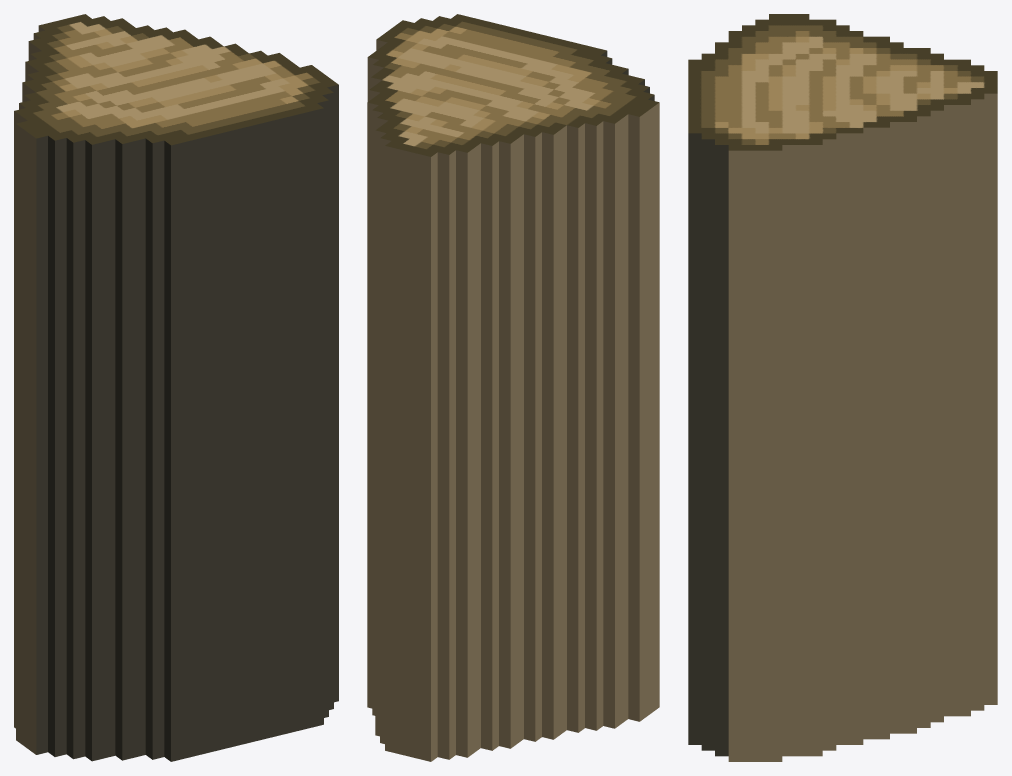
Rendered from wood_chopped.glb.
The picture shows the model from 3 angles, left to right: view 1: azimuth 30°, elevation 25°; view 2: azimuth 150°, elevation 25°; view 3: azimuth 270°, elevation 25°; orthographic projection.
Visible parts, largest first — view 1: wood1-2-col; view 2: wood1-2-col; view 3: wood1-2-col.
Part boxes in pixels (left/top/right/bottom): wood1-2-col: left=14, top=14, right=338, bottom=761; wood1-2-col: left=367, top=14, right=659, bottom=761; wood1-2-col: left=688, top=14, right=997, bottom=761.
Bounding box in the file's own units: 0.75 × 1.57 × 0.7188.
Materials: 3 (1 with a texture image).
